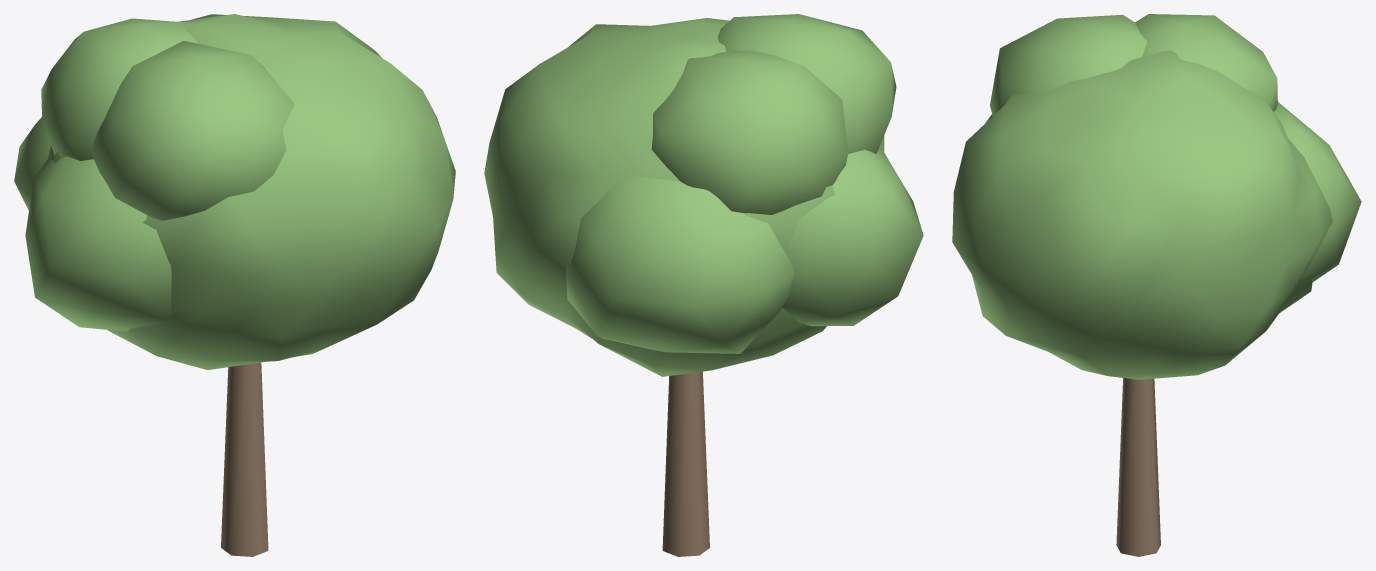
The model's file is tree_puffy_a.glb.
3 views of the same model, side by side, from view 1: azimuth 30°, elevation 25°; view 2: azimuth 150°, elevation 25°; view 3: azimuth 270°, elevation 25° (orthographic). The views are drawn at different scales.
Visible parts, largest first — view 1: tree_puffy_a; view 2: tree_puffy_a; view 3: tree_puffy_a.
Part boxes in pixels (x1,y1,x2,y2): tree_puffy_a: (14, 14, 455, 556); tree_puffy_a: (484, 14, 923, 556); tree_puffy_a: (952, 14, 1361, 556).
Bounding box in the file's own units: 4.42 × 5.65 × 4.3.
